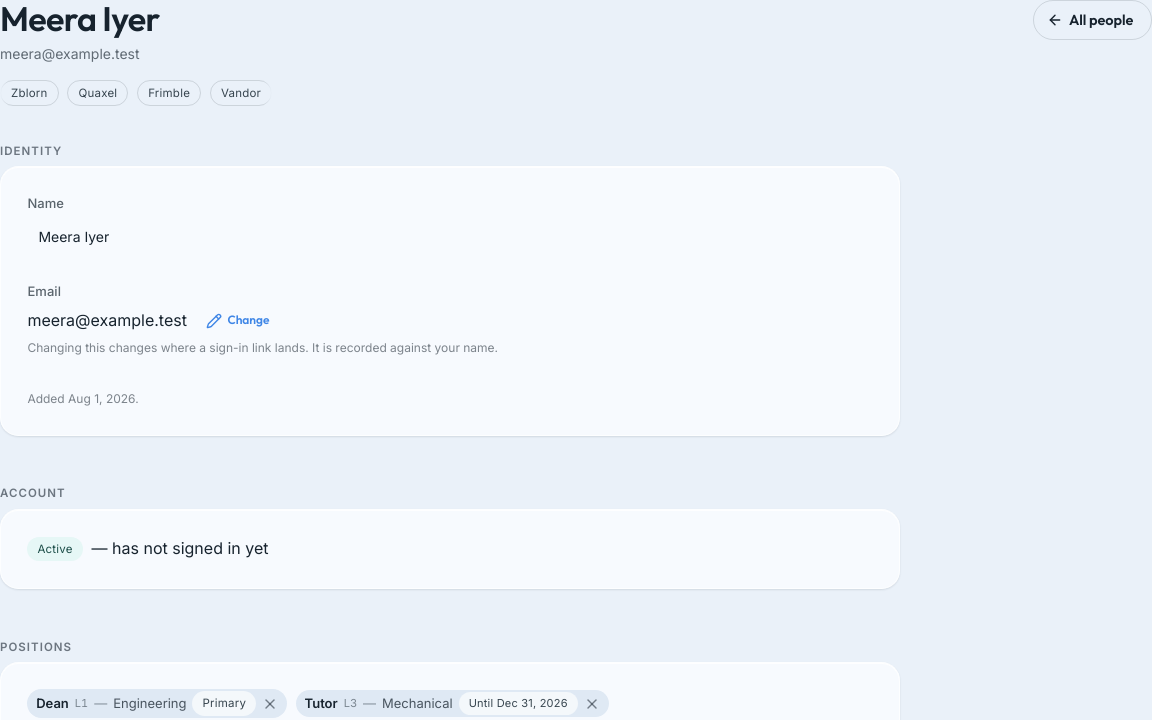
Test: /app/people/:id › warns about the POWERS before removing a position, not about a chip
Click the button named "Remove Dean — Engineering" at x=270, y=704, box [262, 696, 278, 712]
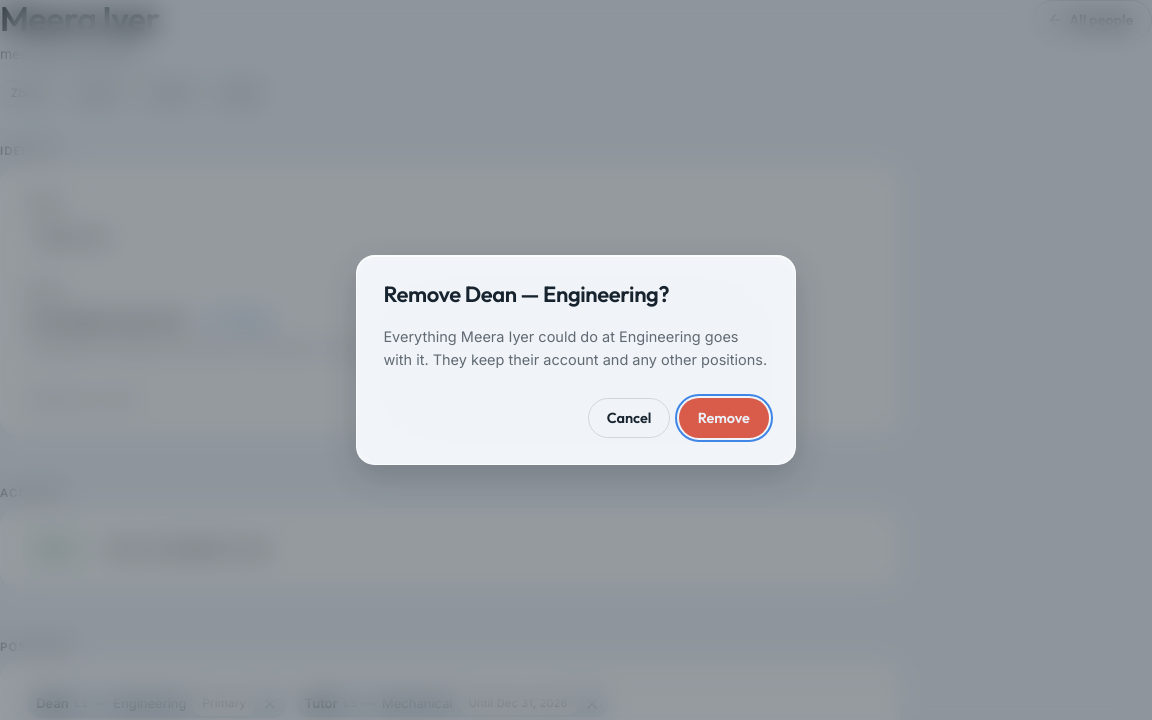
Check: the text "keep their account" is shown, box [383, 328, 767, 368]
